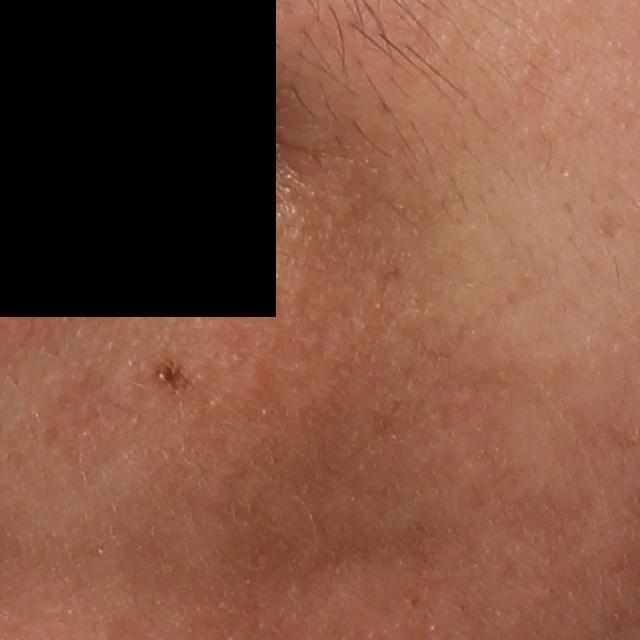nevus: (153, 356, 194, 395)
